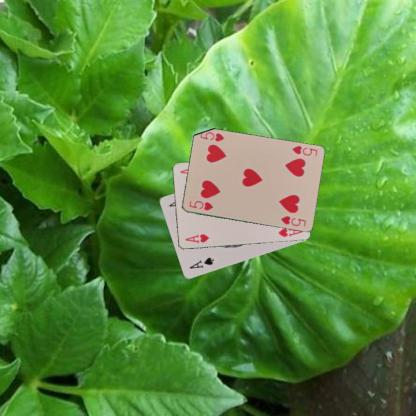5h: (289, 143, 318, 157), (186, 198, 214, 212)
Ah: (182, 232, 210, 244)
As: (187, 255, 215, 270)
